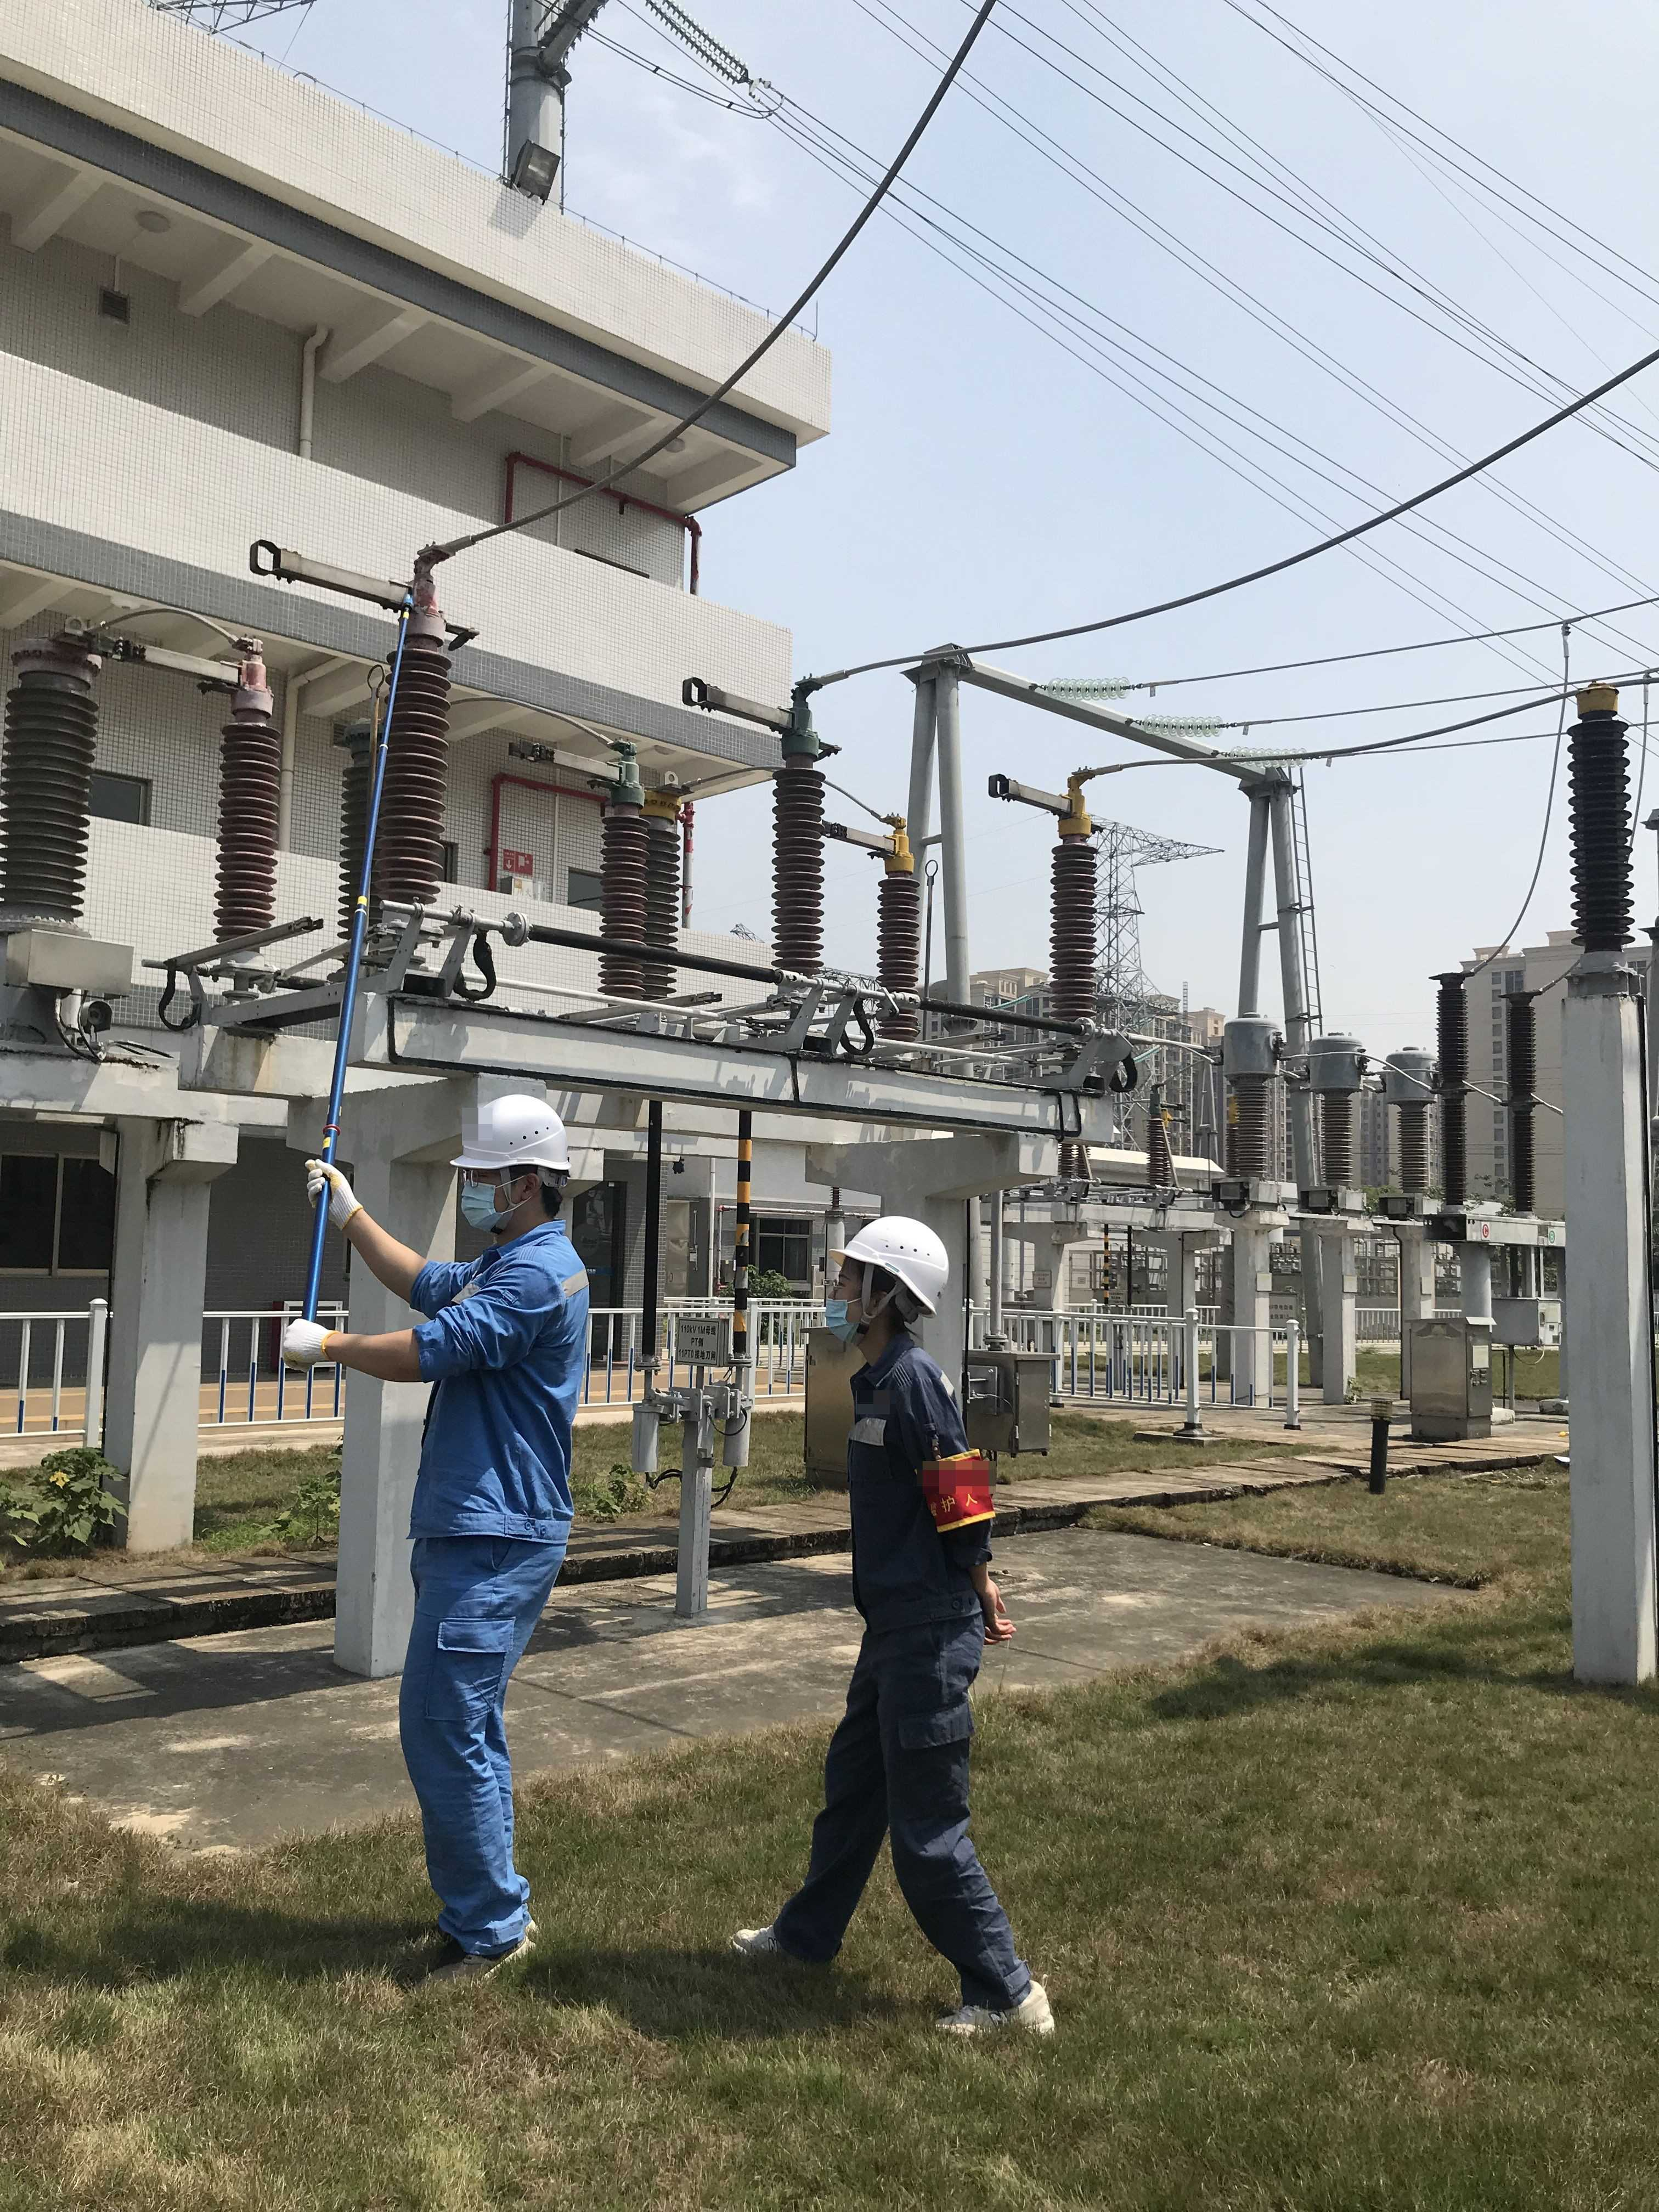downsuit: (781, 1646, 1026, 1987), (396, 1557, 566, 1944)
upsuit: (403, 1223, 594, 1541), (842, 1339, 1006, 1629)
wrongtop: (329, 1205, 439, 1390)
